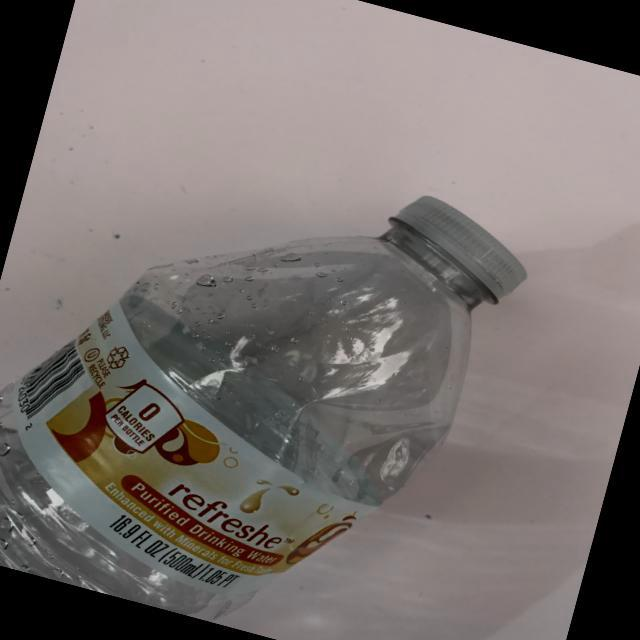plastic: (0, 82, 595, 640)
